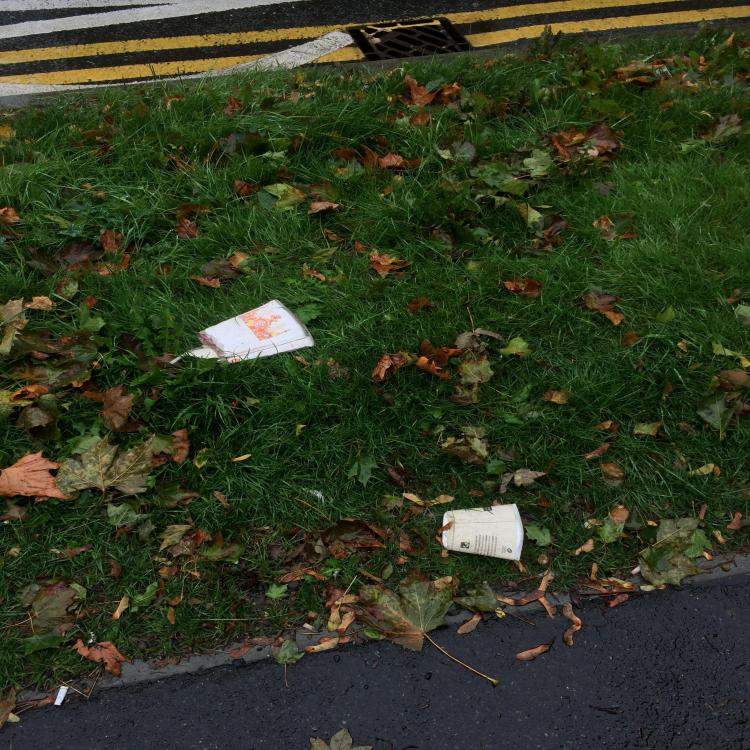Paper cup: (170, 299, 315, 364), (442, 504, 524, 561)
Unlabeled litter: (54, 686, 69, 705)
